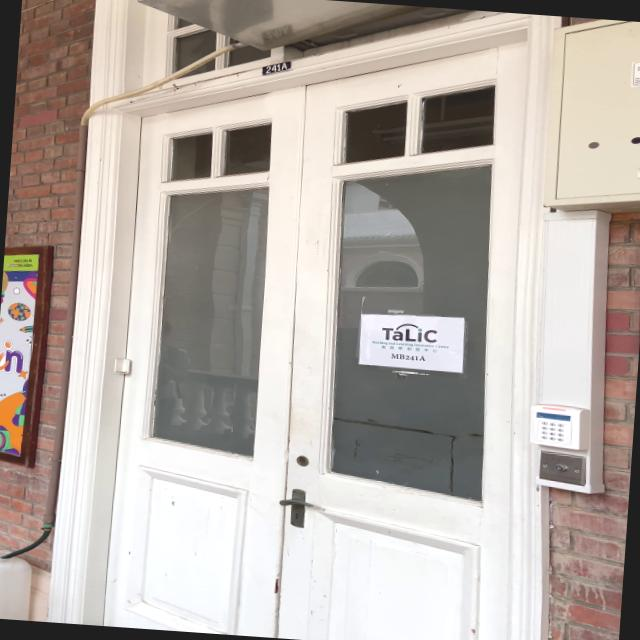room241a: (258, 59, 292, 79)
